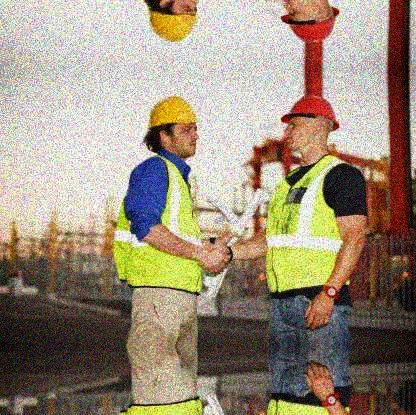helmet: (279, 95, 339, 156), (146, 96, 199, 162), (280, 1, 343, 44), (148, 1, 205, 46)
